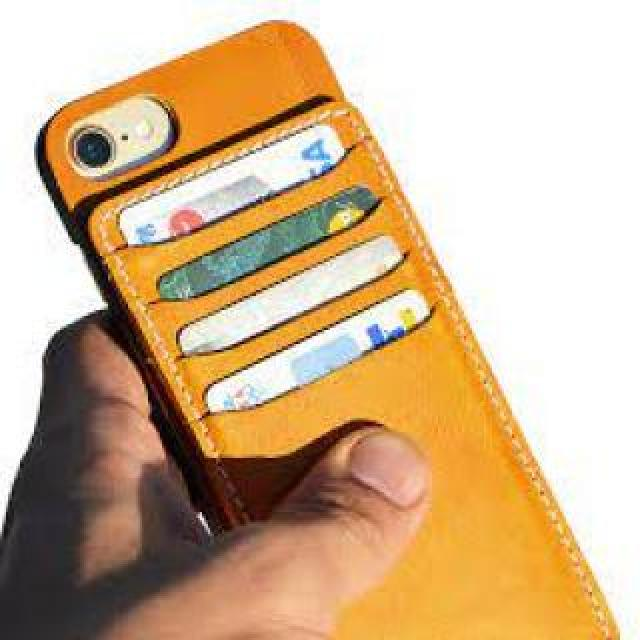smart phone: (48, 20, 487, 640)
